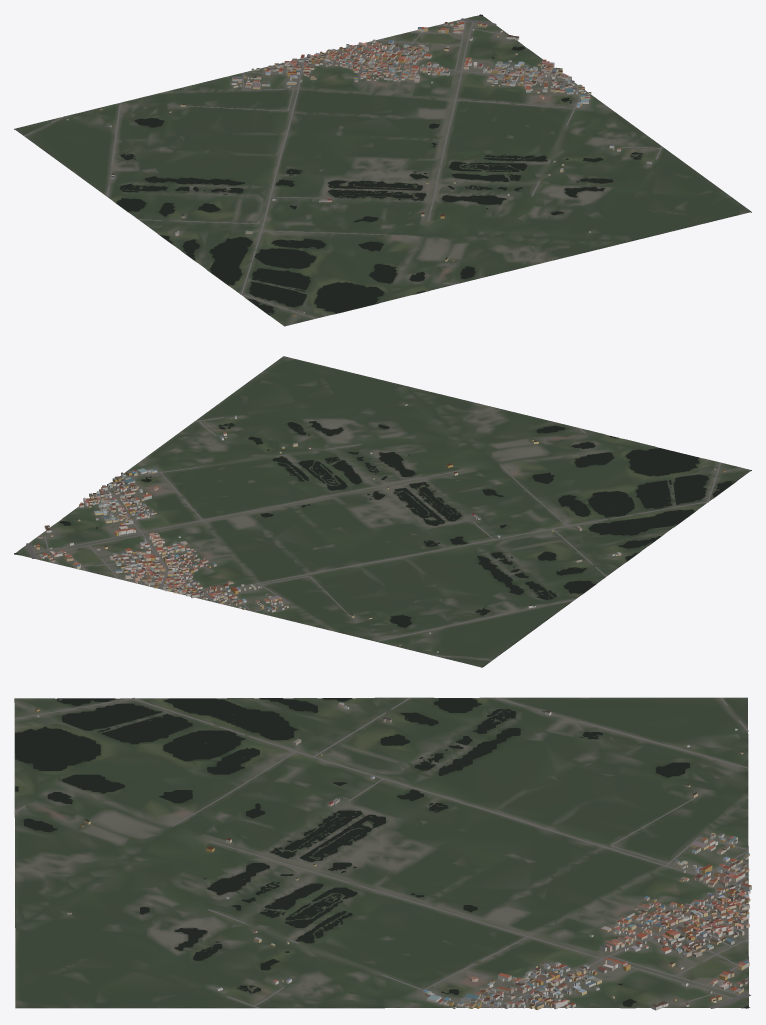
The picture shows the model from 3 angles, top to bottom: view 1: azimuth 30°, elevation 25°; view 2: azimuth 150°, elevation 25°; view 3: azimuth 270°, elevation 25°; orthographic projection. The views are drawn at different scales.
Visible parts, largest first — view 1: ground, water, buildings, roads; view 2: ground, water, buildings, roads; view 3: ground, water, buildings, roads.
Part boxes in pixels (box(x1,y1,x2,y2)): ground: box(14, 15, 751, 326); water: box(116, 14, 643, 314); buildings: box(66, 20, 651, 315); roads: box(24, 18, 662, 318); ground: box(14, 356, 751, 667); water: box(14, 421, 735, 627); buildings: box(34, 403, 725, 652); roads: box(26, 417, 720, 660); ground: box(14, 697, 748, 1008); water: box(15, 698, 749, 1008); buildings: box(35, 702, 751, 1010); roads: box(14, 697, 750, 1008).
Bounding box in the file's own units: 1415 × 16.05 × 1410.
